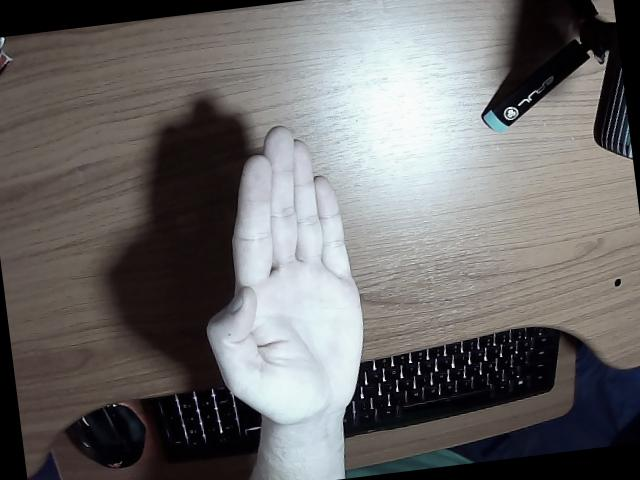paper: (207, 127, 363, 480)
